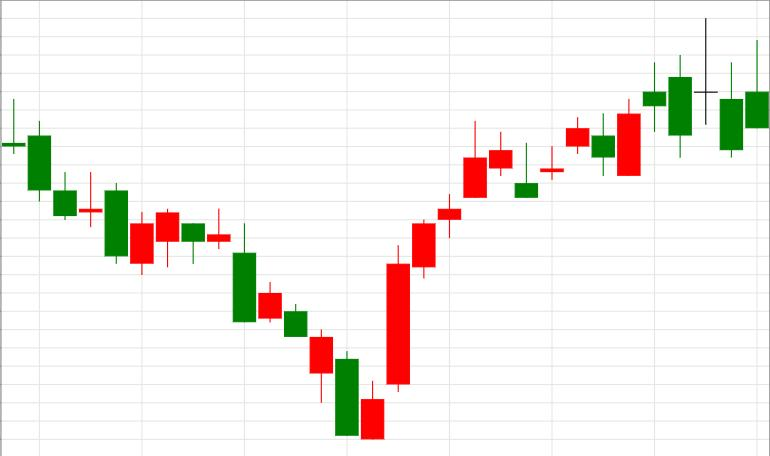three_white_soldiers_rise: (233, 220, 435, 440)
